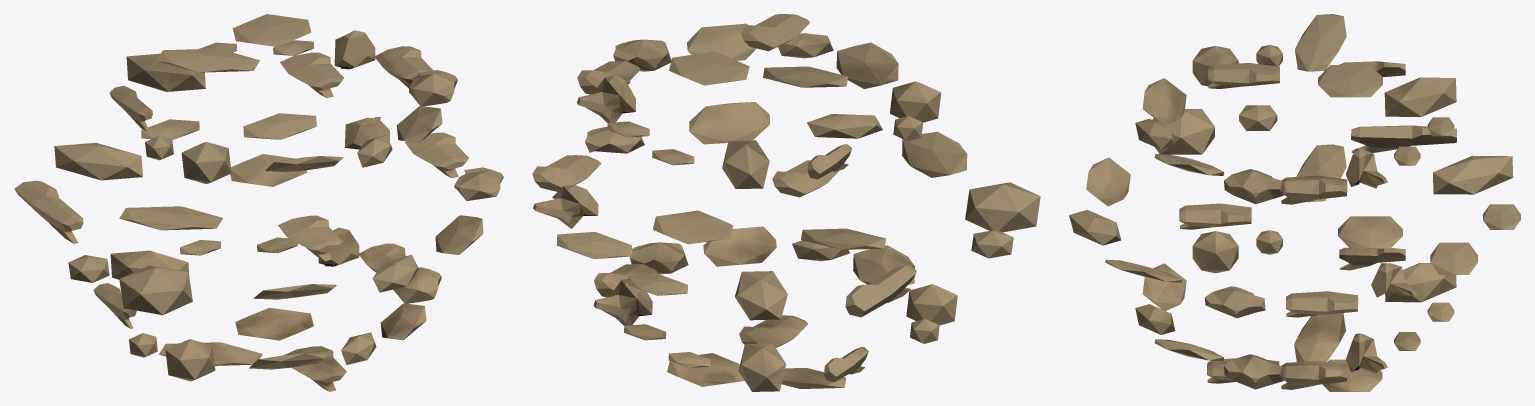
Rendered from splattersphere2.dae.
3 renders of one model, left to right at view 1: azimuth 30°, elevation 25°; view 2: azimuth 150°, elevation 25°; view 3: azimuth 270°, elevation 25°, orthographic. The views are drawn at different scales.
Visible parts, largest first — view 1: splatter5_003; view 2: splatter5_003; view 3: splatter5_003.
Boxes of the visible parts, x1,y1,x2,y2 form: splatter5_003: (14,14,503,391); splatter5_003: (532,14,1040,391); splatter5_003: (1069,14,1520,391).
Bounding box in the file's own units: 1.12 × 1.04 × 0.8013.
Materials: 1 (1 with a texture image).
